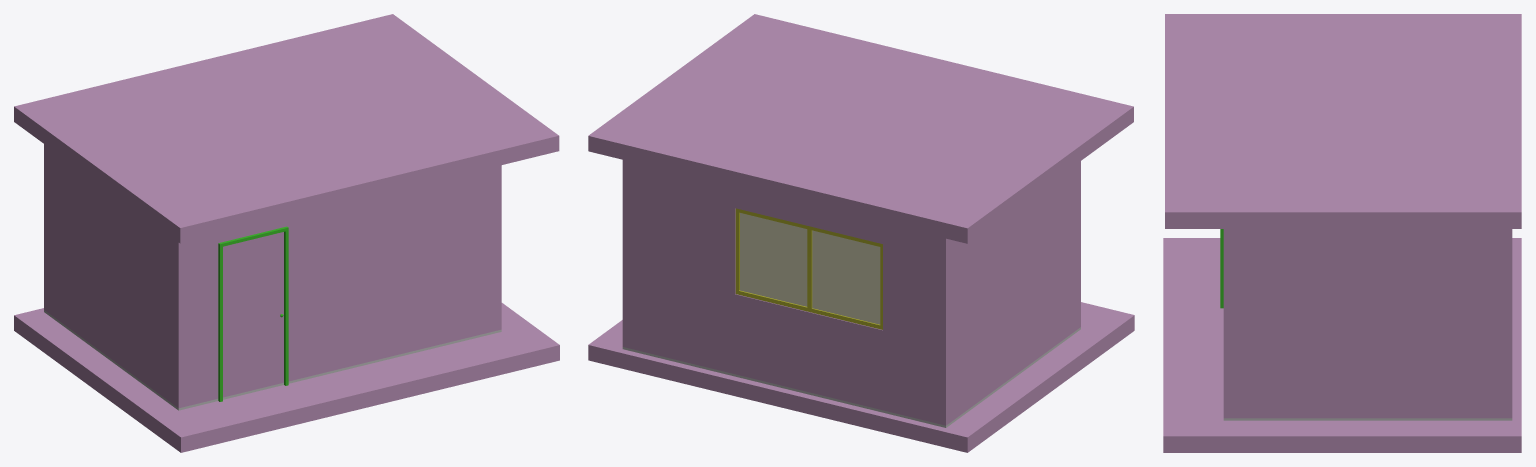
The model's file is FloorPlan313.fbx.
3 renders of one model, left to right at view 1: azimuth 30°, elevation 25°; view 2: azimuth 150°, elevation 25°; view 3: azimuth 270°, elevation 25°, orthographic. The views are drawn at different scales.
Visible parts, largest first — view 1: StandardWallSize.011, Ceiling.009, Floor.010, StandardDoorFrame1.009; view 2: StandardWallSize.011, Ceiling.009, Floor.010, StandardWindow3.004; view 3: Ceiling.009, StandardWallSize.011, Floor.010.
Part boxes in pixels (x1,y1,x2,y2): StandardWallSize.011: [44, 144, 501, 410]; Ceiling.009: [14, 14, 559, 243]; Floor.010: [14, 303, 559, 452]; StandardDoorFrame1.009: [218, 226, 288, 401]; StandardWallSize.011: [622, 160, 1080, 427]; Ceiling.009: [588, 14, 1133, 243]; Floor.010: [588, 302, 1134, 452]; StandardWindow3.004: [735, 208, 882, 329]; Ceiling.009: [1165, 14, 1521, 228]; StandardWallSize.011: [1223, 229, 1512, 420]; Floor.010: [1163, 238, 1521, 452].
Bounding box in the file's own units: 513 × 290 × 391.
